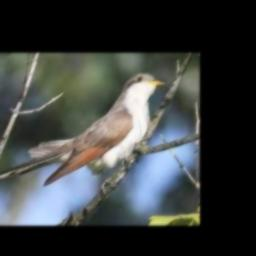Cuckoo: (29, 73, 166, 186)
